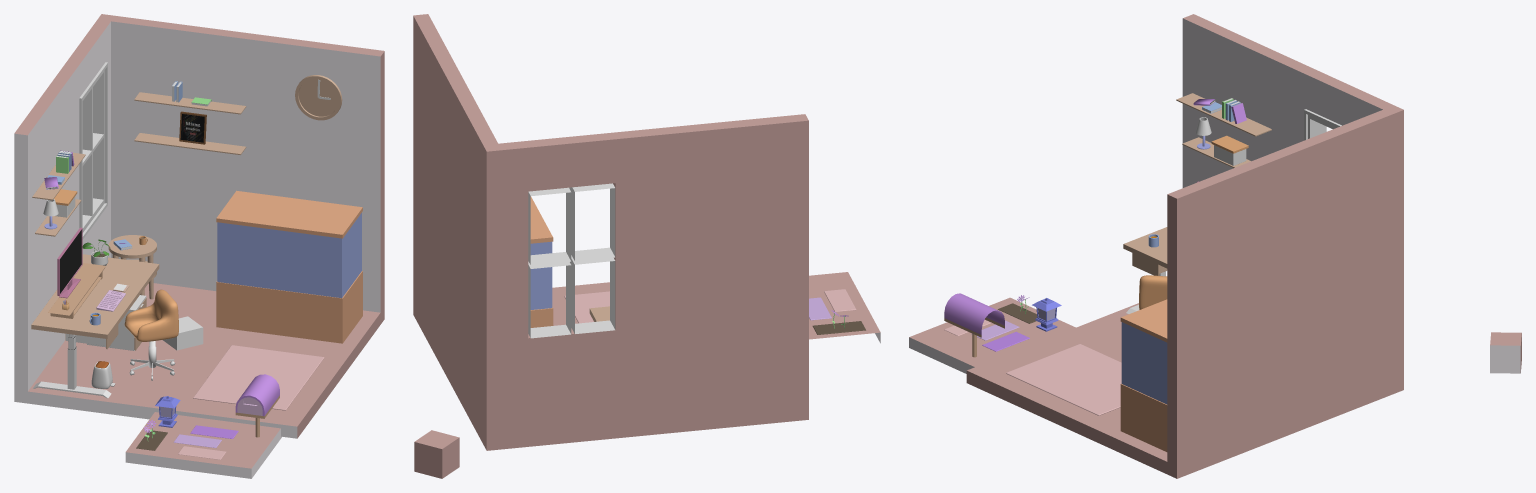
Rendered from Finale Version 16.glb.
3 views of the same model, side by side, from view 1: azimuth 30°, elevation 25°; view 2: azimuth 150°, elevation 25°; view 3: azimuth 270°, elevation 25° (orthographic). The views are drawn at different scales.
Visible parts, largest first — view 1: Body, Aquarium, Desks, Floor Items, Mini Floor, Shelves, Table Stuff, Chair, Clock, Mailbox, Computer, Cube (+5 smaller); view 2: Body, Mini Floor, Aquarium, Cube.001, Floor Items, Dirt, FloorThird; view 3: Body, Aquarium, Floor Items, Mini Floor, Shelves, Mailbox, Desks, Cube.001, Chair, Lamp.
Boxes of the visible parts, left/top/right/bottom form: Body: left=14, top=14, right=384, bottom=438; Aquarium: left=216, top=190, right=362, bottom=343; Desks: left=31, top=235, right=159, bottom=398; Floor Items: left=87, top=295, right=324, bottom=410; Mini Floor: left=125, top=412, right=281, bottom=478; Shelves: left=32, top=81, right=246, bottom=236; Table Stuff: left=48, top=236, right=147, bottom=325; Chair: left=124, top=289, right=178, bottom=341; Clock: left=295, top=75, right=342, bottom=120; Mailbox: left=235, top=374, right=279, bottom=437; Computer: left=57, top=227, right=82, bottom=298; Cube: left=163, top=316, right=203, bottom=350; Body: left=413, top=14, right=808, bottom=450; Mini Floor: left=809, top=272, right=880, bottom=343; Aquarium: left=530, top=196, right=553, bottom=327; Cube.001: left=414, top=430, right=459, bottom=478; Floor Items: left=564, top=291, right=609, bottom=323; Dirt: left=812, top=321, right=865, bottom=334; FloorThird: left=824, top=289, right=856, bottom=311; Body: left=966, top=14, right=1403, bottom=478; Aquarium: left=1120, top=299, right=1167, bottom=451; Floor Items: left=1006, top=344, right=1121, bottom=415; Mini Floor: left=909, top=297, right=1075, bottom=373; Shelves: left=1176, top=93, right=1271, bottom=167; Mailbox: left=944, top=293, right=1004, bottom=357; Desks: left=1123, top=227, right=1167, bottom=313; Cube.001: left=1490, top=332, right=1521, bottom=373; Chair: left=1139, top=275, right=1167, bottom=309; Lamp: left=1032, top=298, right=1061, bottom=331.
Size of the model in its own units: 27.58 by 19.65 by 38.64.
Materials: 43 (1 with a texture image).
